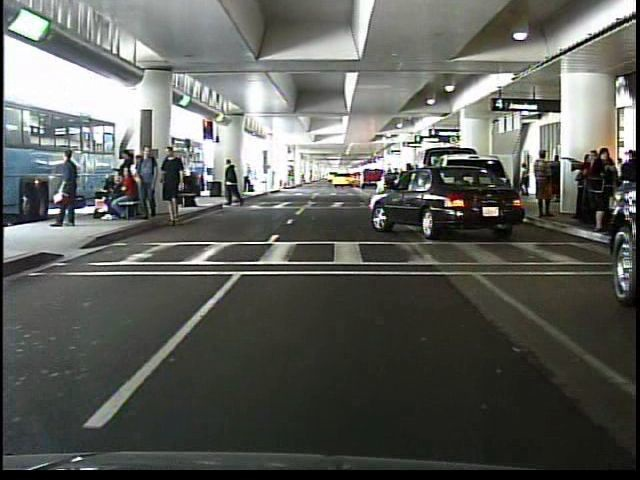person: (55, 144, 87, 234), (530, 148, 554, 218), (223, 158, 248, 207), (520, 159, 534, 198)
